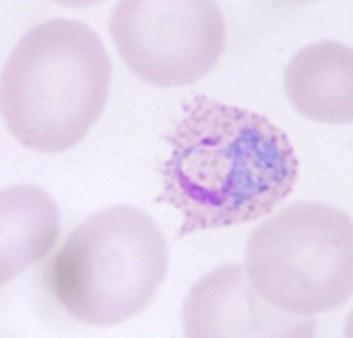Infected: (151, 94, 297, 231)
Uninfected: (3, 18, 112, 148), (53, 206, 167, 324), (244, 201, 353, 313), (181, 261, 322, 338), (109, 0, 224, 88), (286, 38, 353, 128), (0, 186, 58, 278)
